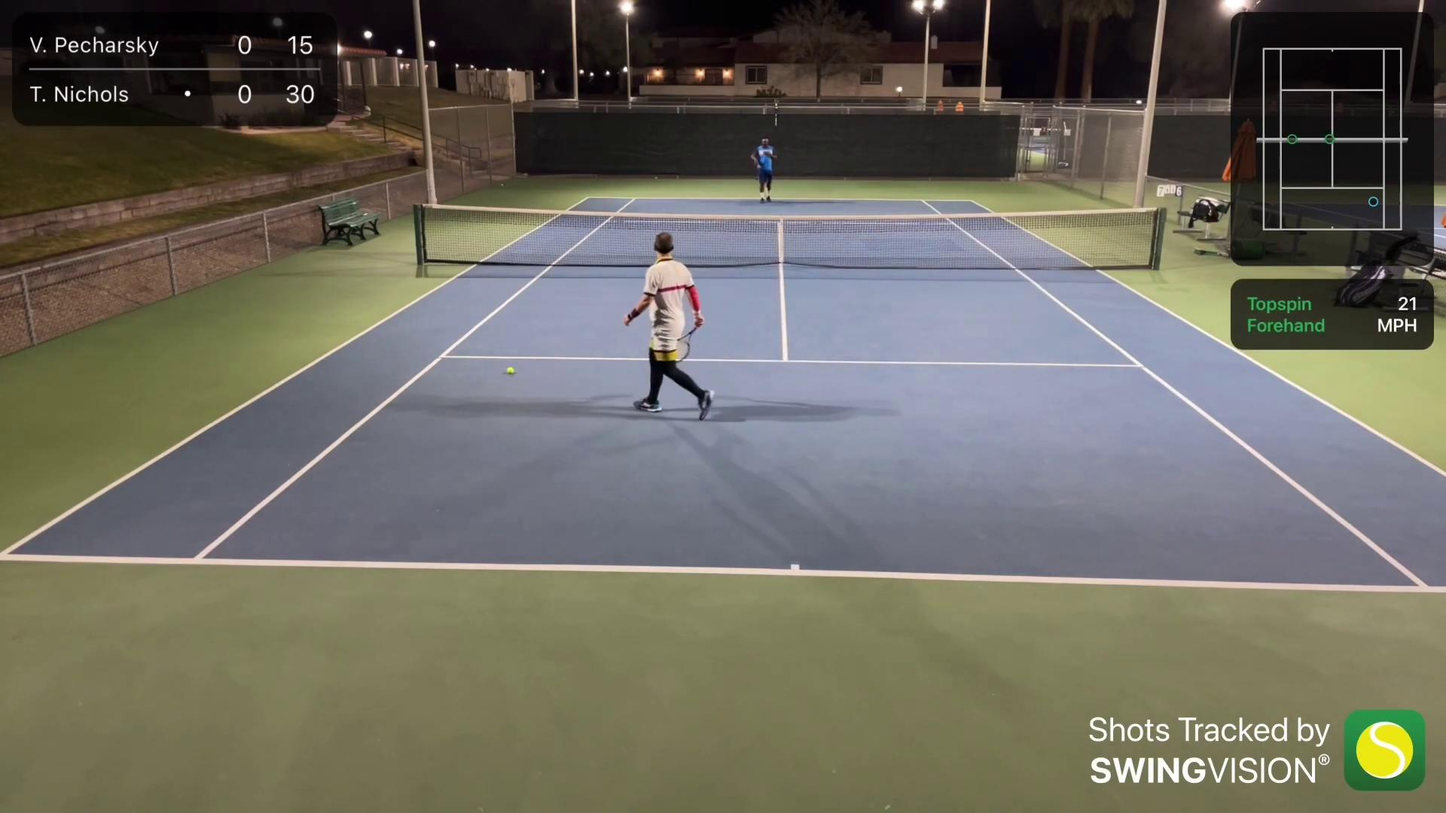ball: (503, 365, 517, 375), (763, 187, 769, 192)
